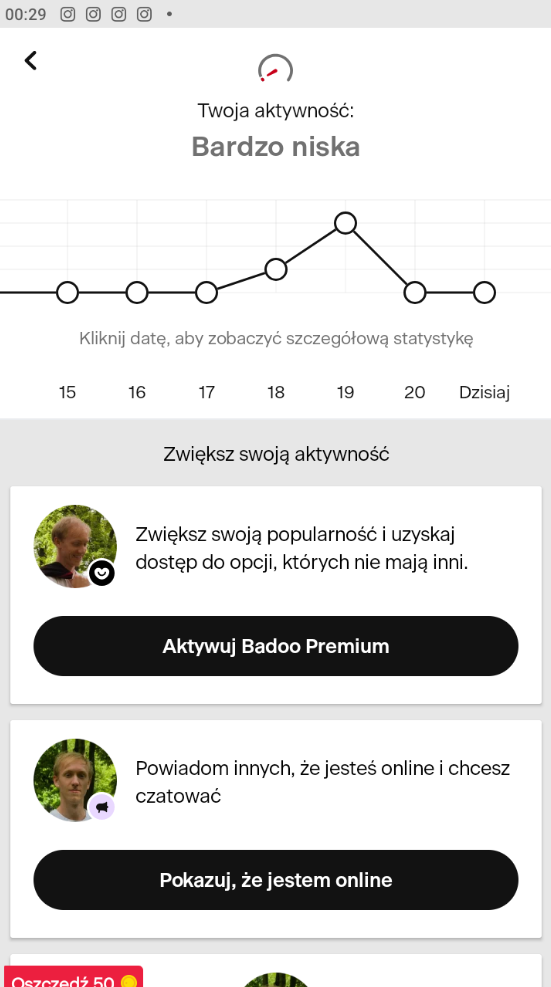kupno_button: (39, 847, 517, 914), (36, 614, 517, 680)
